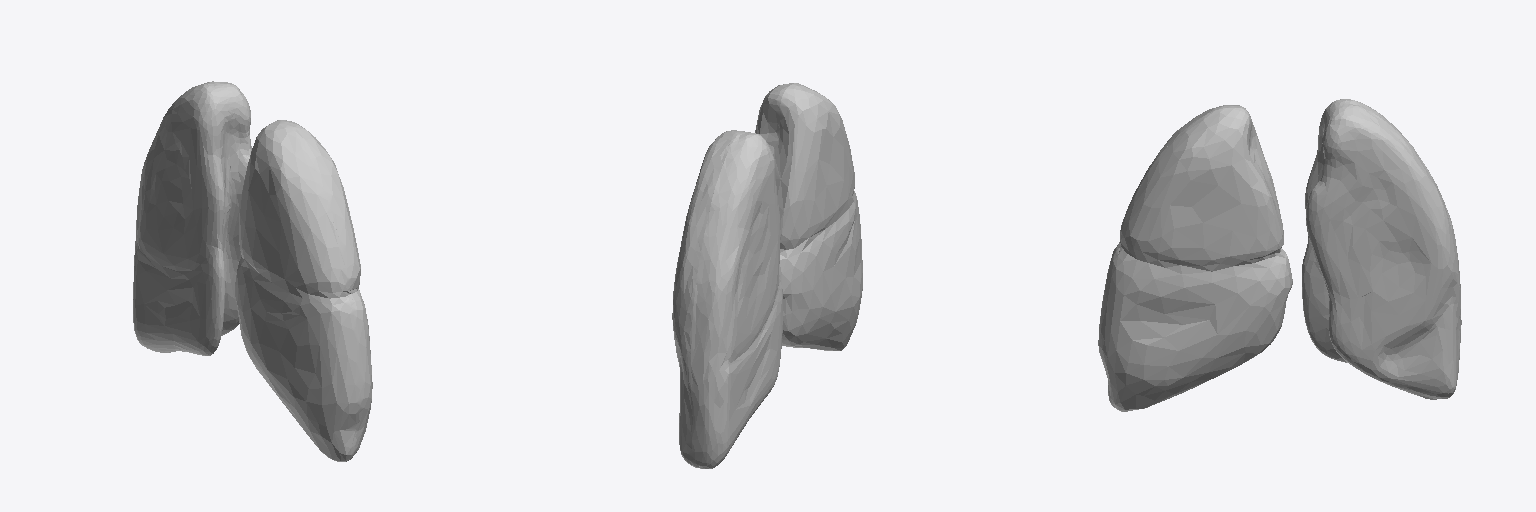
Rendered from lungs_easy.obj.
3 renders of one model, left to right at view 1: azimuth 30°, elevation 25°; view 2: azimuth 150°, elevation 25°; view 3: azimuth 270°, elevation 25°, orthographic.
Visible parts, largest first — view 1: mmGroup0; view 2: mmGroup0; view 3: mmGroup0.
Part boxes in pixels (left/top/right/bottom): mmGroup0: left=133, top=81, right=372, bottom=461; mmGroup0: left=672, top=83, right=862, bottom=468; mmGroup0: left=1098, top=99, right=1461, bottom=411.
Size of the model in its own units: 0.0822 by 0.2881 by 0.3156.